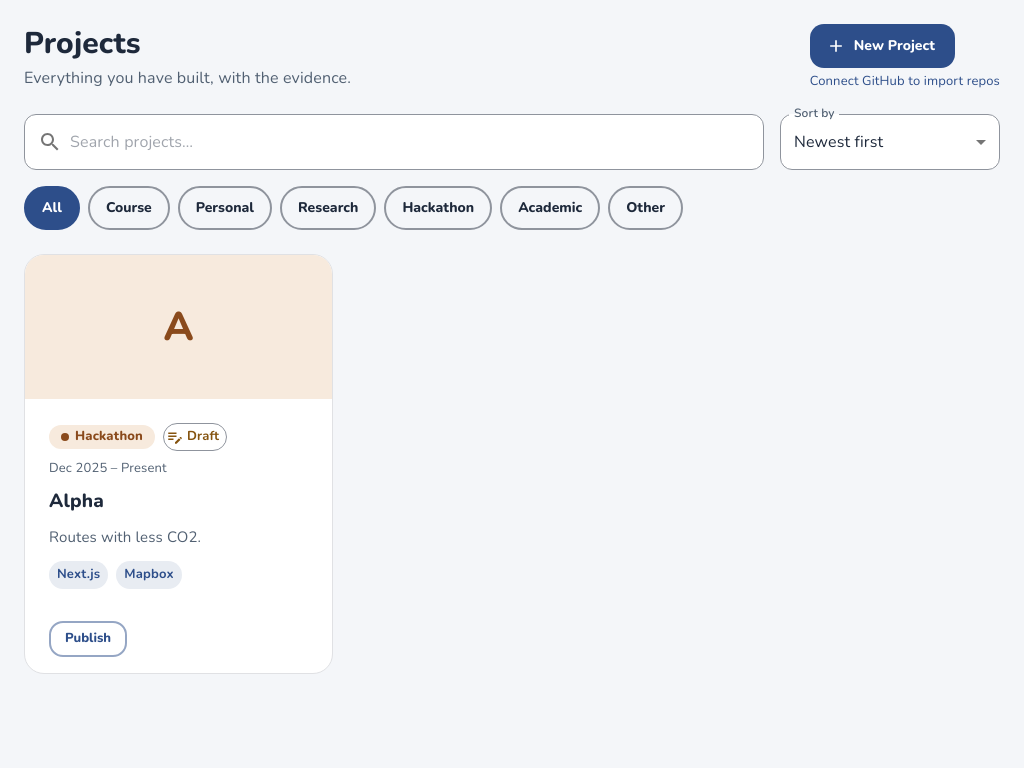
it: /projects quick publish › focus moves to a connected status line that announces the result, after the button is gone (Codex P2 on #121)
Click the button "Publish". click: click(88, 639)
box: left=49, top=621, right=127, bottom=657
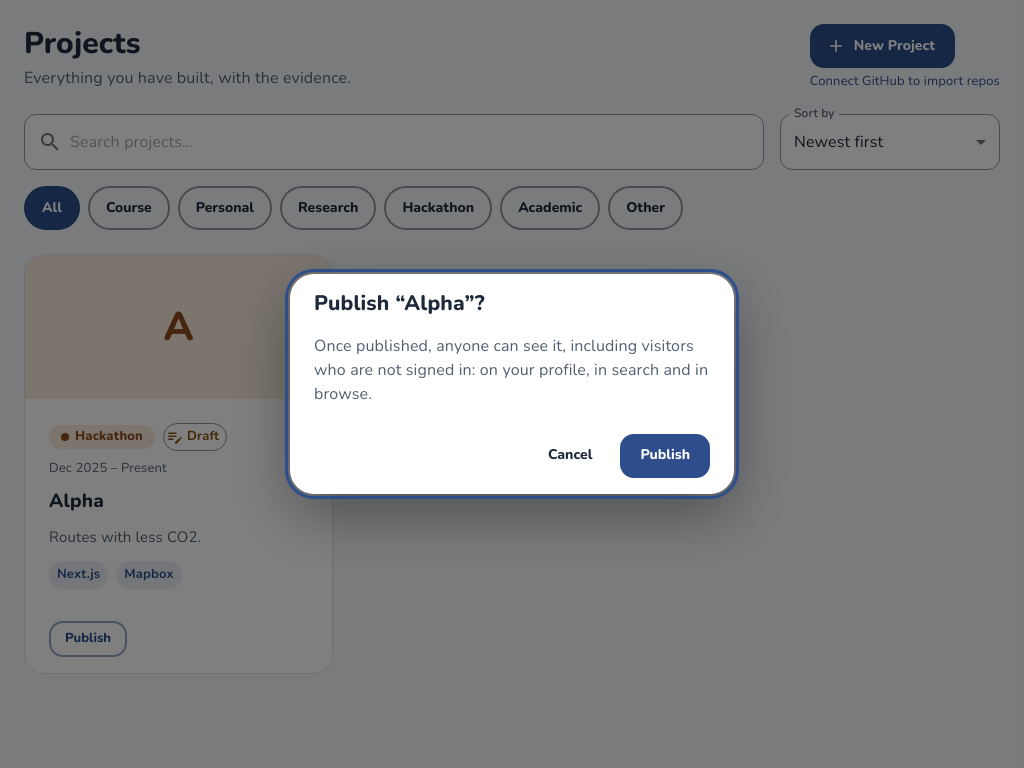
Click the button "Publish". click: click(665, 456)
box: left=620, top=434, right=710, bottom=478
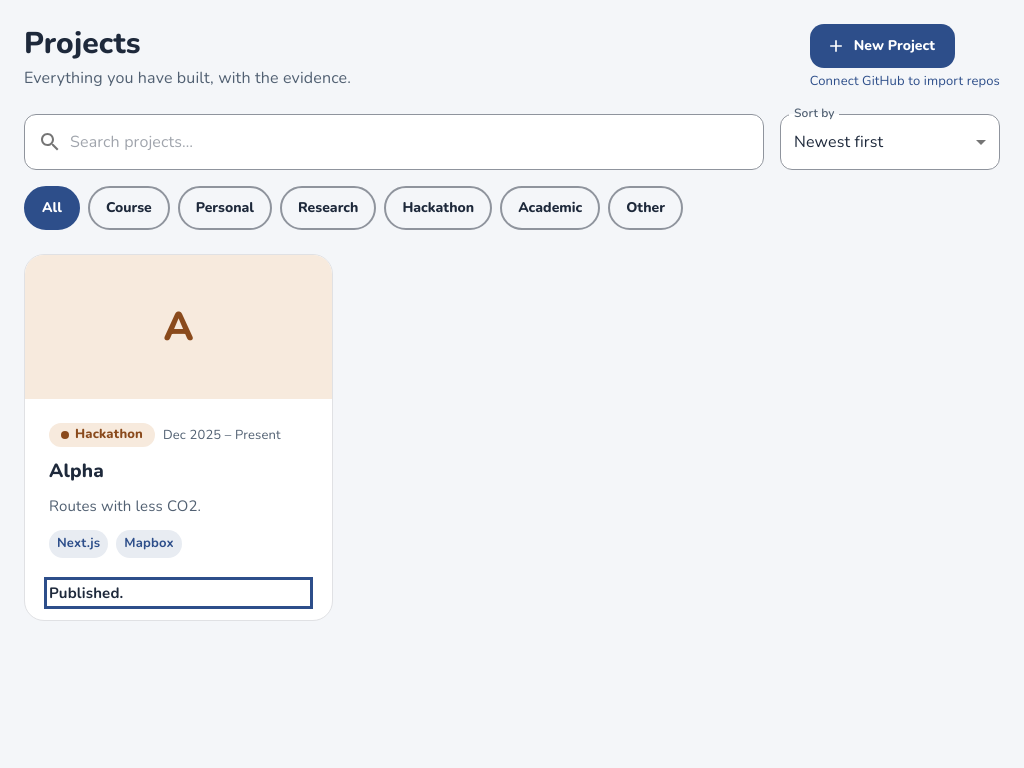
Now the message reads "Published.", box left=49, top=583, right=123, bottom=603
